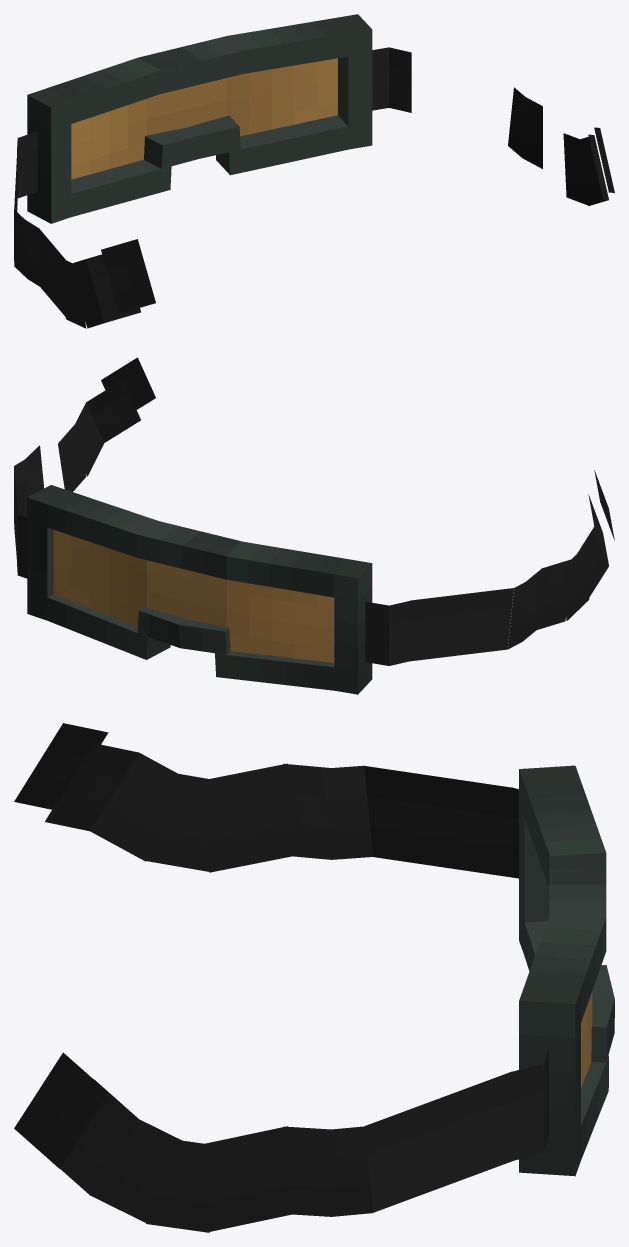
The model's file is helmet_glasses.obj.
3 renders of one model, top to bottom at view 1: azimuth 30°, elevation 25°; view 2: azimuth 150°, elevation 25°; view 3: azimuth 270°, elevation 25°, orthographic. The views are drawn at different scales.
Parts seen in each view (by area): view 1: cube; view 2: cube; view 3: cube.
Part boxes in pixels (x1,y1,x2,y2): cube: [14, 14, 614, 328]; cube: [14, 357, 614, 694]; cube: [14, 723, 614, 1232].
Bounding box in the file's own units: 0.7145 × 0.1644 × 0.4948.
